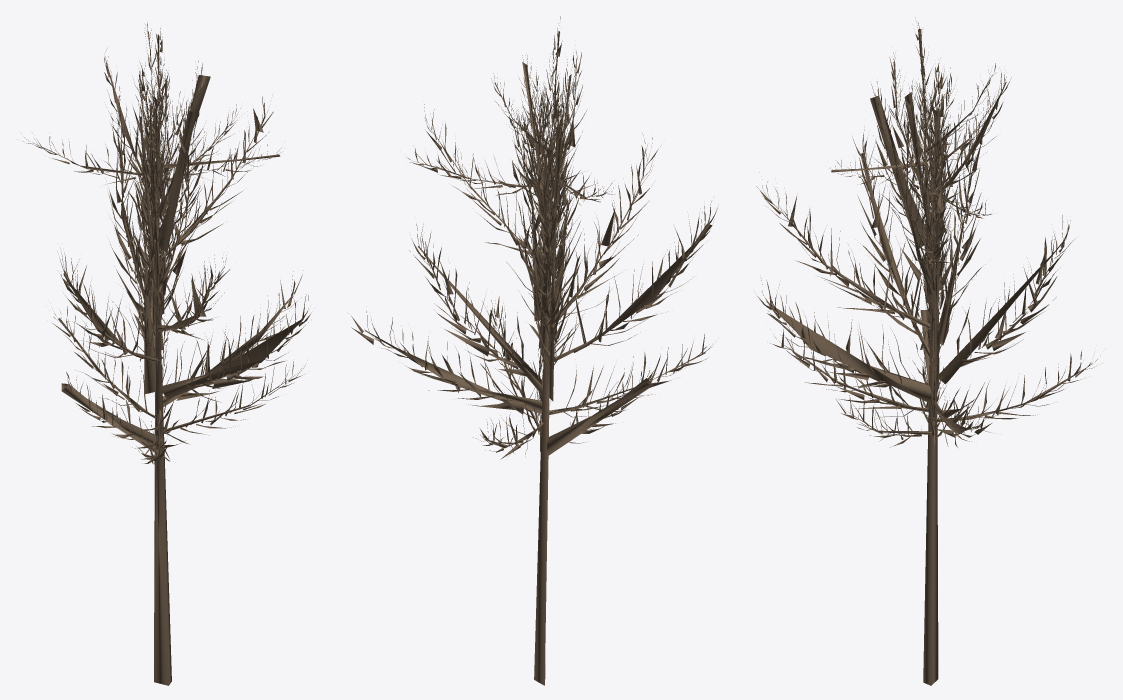
Rendered from Spruce_01_LOD1.fbx.
3 renders of one model, left to right at view 1: azimuth 30°, elevation 25°; view 2: azimuth 150°, elevation 25°; view 3: azimuth 270°, elevation 25°, orthographic.
Parts seen in each view (by area): view 1: Spruce; view 2: Spruce; view 3: Spruce.
Part boxes in pixels (x1,y1,x2,y2): Spruce: (22, 23, 310, 685); Spruce: (348, 16, 717, 685); Spruce: (756, 17, 1097, 685).
Bounding box in the file's own units: 985 × 2036 × 995.
